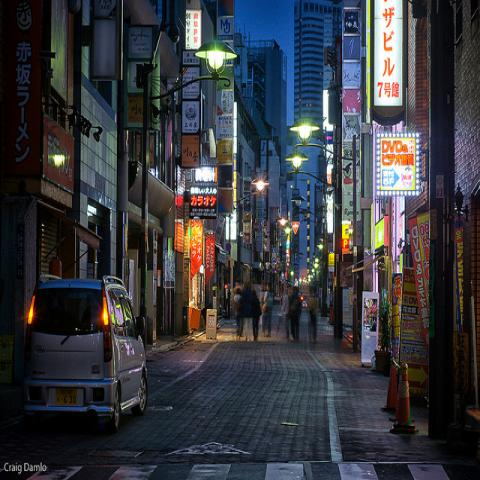car: (24, 274, 147, 435), (302, 300, 307, 309)
